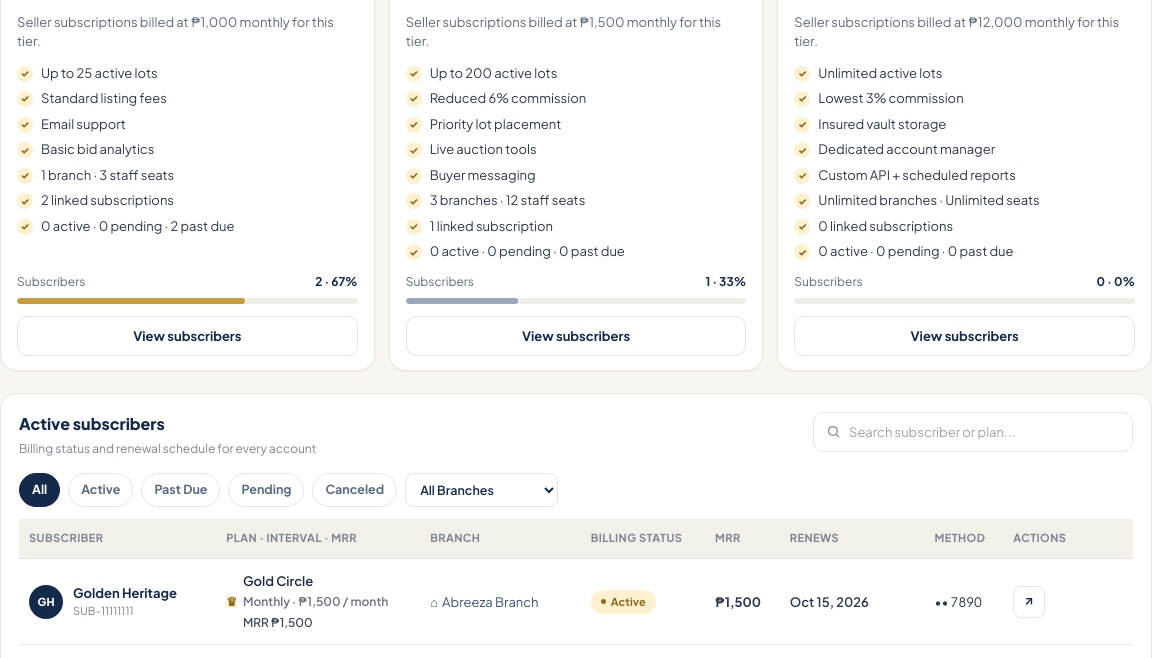
Admin Subscriptions redesign › subscriber table follows the selected plan filter
The image size is (1152, 658).
(page scrolled)
Check: the text "Golden Heritage" is shown, box [73,585,177,601]
Note: Select Gold
Click the button with aria-label "view gold circle".
click(576, 336)  # box [406,316,746,356]
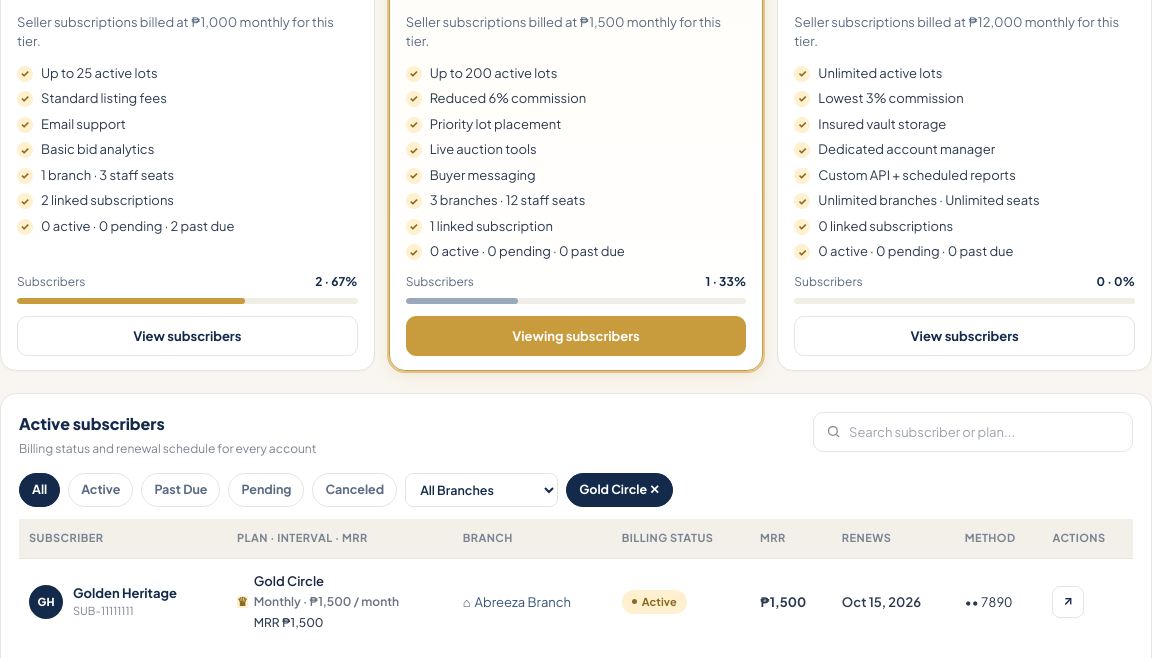
Check: the text "Golden Heritage" is shown, box [73,585,177,601]
Check: the button with aria-label "clear plan filter gold circle" is shown, box [566,473,673,507]
